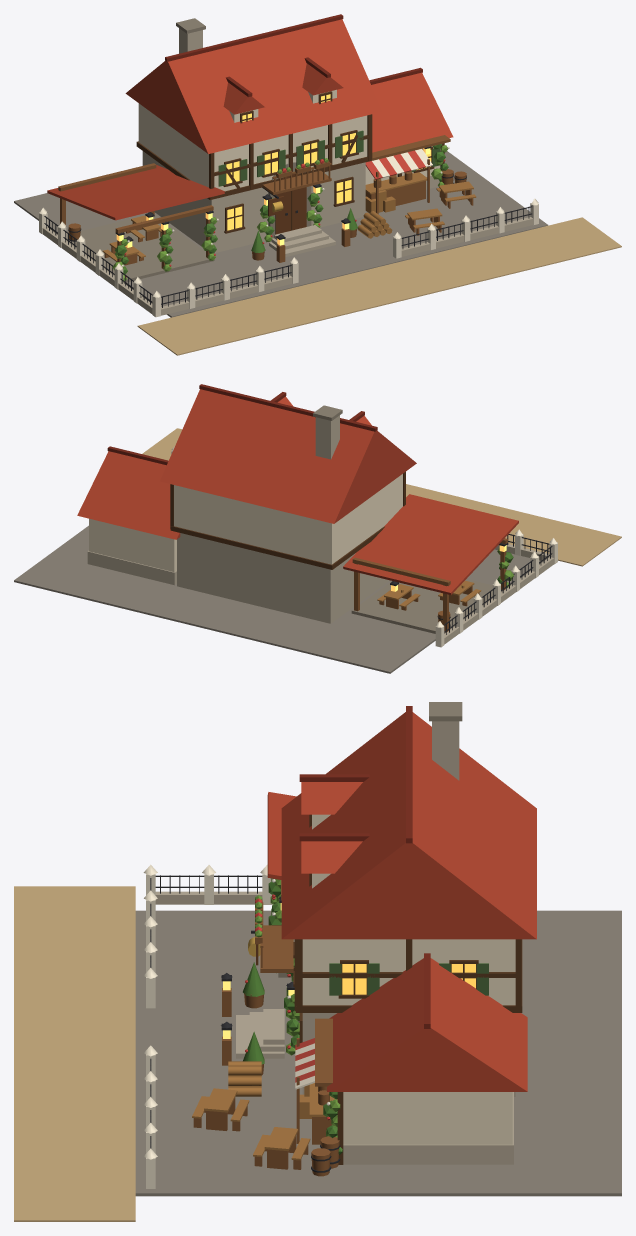
Rendered from inn.glb.
3 views of the same model, one above another, from view 1: azimuth 30°, elevation 25°; view 2: azimuth 150°, elevation 25°; view 3: azimuth 270°, elevation 25° (orthographic). The views are drawn at different scales.
Visible parts, largest first — view 1: main-roof, street-paving, yard-cobbles, upper-floor, ground-floor, terrace-roof, wing-roof, terrace-deck, dormer-roof (×2), door, main-roof-ridge, floor-beam (+8 smaller); view 2: main-roof, yard-cobbles, ground-floor, terrace-roof, upper-floor, wing-roof, street-paving, terrace-deck, wing-walls, floor-beam, wing-base, chimney (+2 smaller); view 3: yard-cobbles, street-paving, main-roof, wing-roof, wing-walls, upper-floor, wing-base, dormer-roof (×2), terrace-roof, chimney, balcony-floor, wing-balcony (+4 smaller).
Part boxes in pixels (x1,y1,x2,y2): main-roof: [125, 19, 382, 153]; street-paving: [137, 217, 621, 355]; yard-cobbles: [14, 151, 548, 317]; upper-floor: [138, 103, 367, 191]; ground-floor: [142, 151, 365, 253]; terrace-roof: [47, 165, 224, 220]; wing-roof: [371, 72, 453, 152]; terrace-deck: [66, 215, 214, 282]; dormer-roof (×2): [223, 63, 343, 114]; door: [275, 187, 306, 234]; main-roof-ridge: [165, 14, 343, 61]; floor-beam: [136, 141, 371, 199]; main-roof: [159, 389, 416, 523]; yard-cobbles: [14, 525, 543, 673]; ground-floor: [177, 533, 389, 623]; terrace-roof: [343, 494, 518, 594]; upper-floor: [174, 474, 402, 564]; wing-roof: [77, 451, 180, 539]; street-paving: [142, 428, 621, 566]; terrace-deck: [351, 579, 502, 633]; wing-walls: [89, 518, 176, 572]; floor-beam: [170, 526, 384, 569]; wing-base: [87, 550, 176, 585]; chimney: [315, 415, 339, 459]; yard-cobbles: [135, 910, 621, 1196]; street-paving: [14, 886, 135, 1221]; main-roof: [281, 712, 536, 939]; wing-roof: [327, 958, 527, 1091]; wing-walls: [343, 1092, 512, 1144]; upper-floor: [302, 939, 515, 1005]; wing-base: [343, 1092, 513, 1164]; dormer-roof (×2): [301, 782, 362, 873]; terrace-roof: [267, 792, 296, 879]; chimney: [432, 721, 459, 780]; balcony-floor: [260, 925, 293, 972]; wing-balcony: [315, 1018, 332, 1086].
Size of the model in its own units: 26 by 10.68 by 20.
